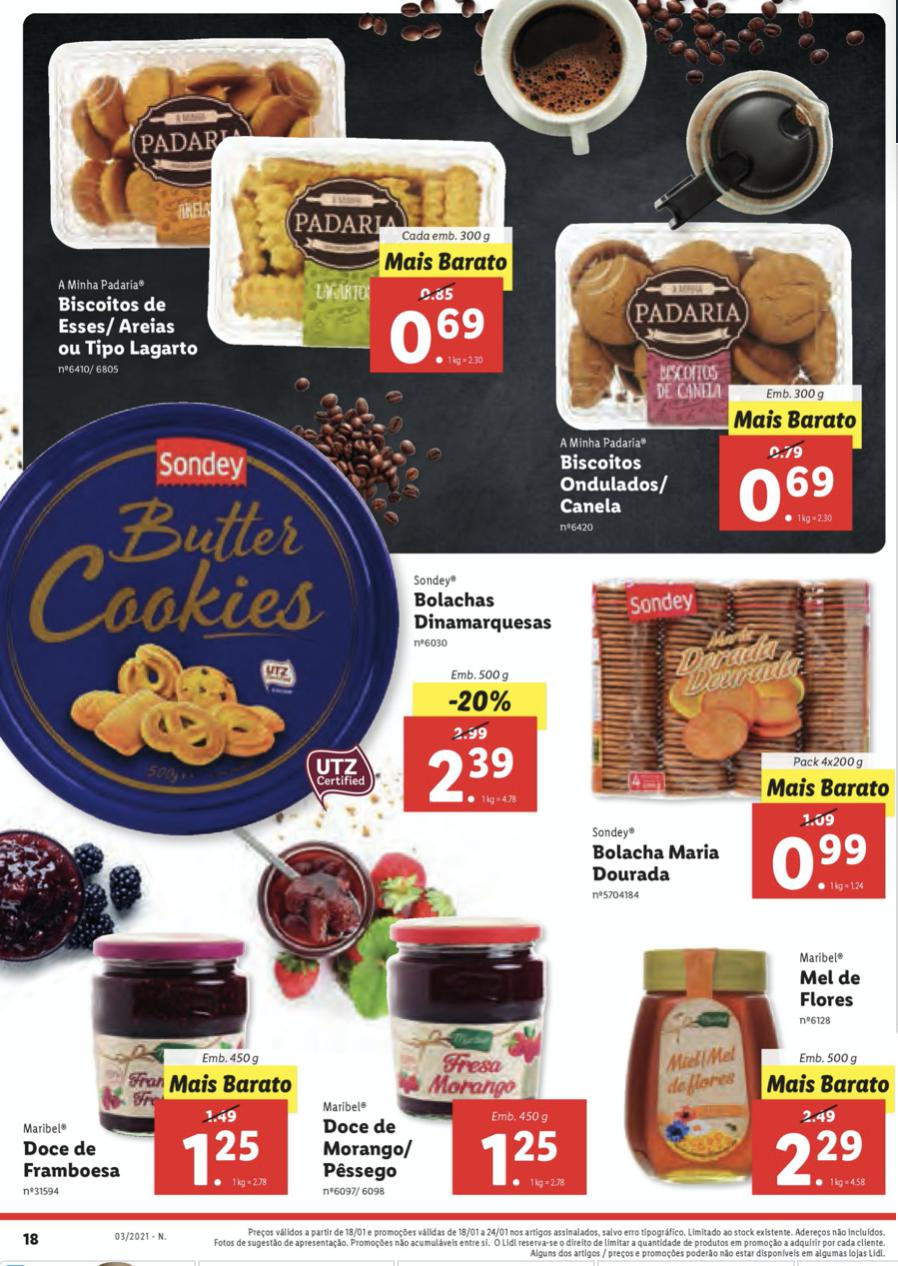name: (52, 290, 203, 363), (556, 448, 675, 516), (313, 1115, 416, 1182), (408, 588, 552, 635), (592, 841, 722, 887), (20, 1138, 125, 1182), (797, 966, 870, 1013)
price: (388, 304, 499, 371), (734, 463, 841, 529), (772, 834, 877, 898), (428, 744, 520, 809), (775, 1127, 863, 1194), (475, 1123, 561, 1191), (181, 1127, 272, 1191)
product: (5, 399, 552, 822), (38, 27, 567, 377), (550, 212, 872, 546), (586, 569, 878, 924), (297, 857, 575, 1204), (17, 898, 297, 1204), (600, 930, 898, 1207)
promotion: (444, 685, 517, 716)
